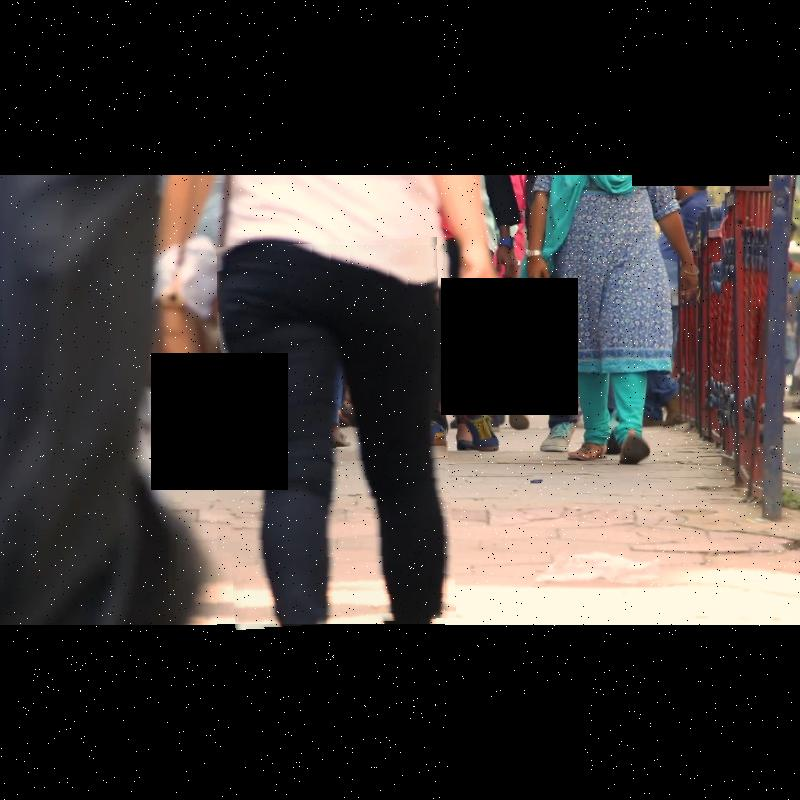Jeans: (218, 246, 445, 628)
